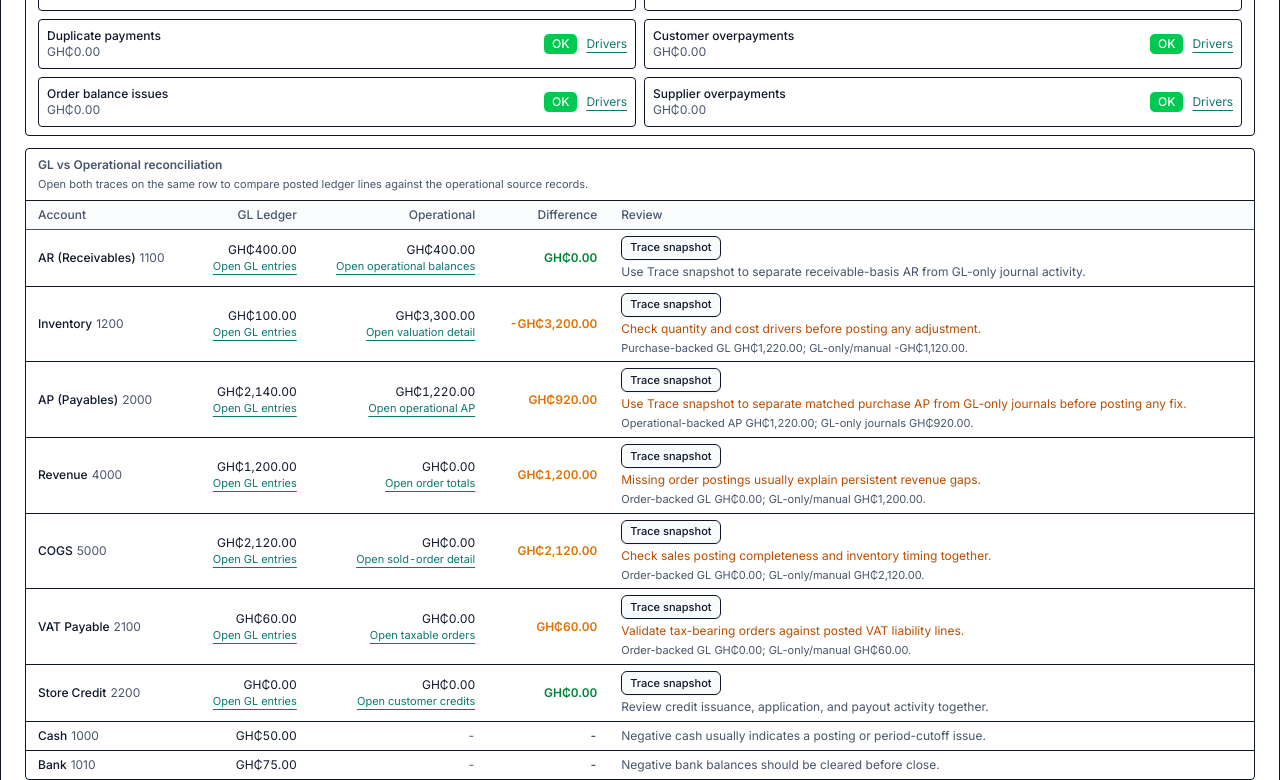
Test: AccountingIntegrityPage › opens a snapshot trace dialog from the reconciliation table
(page scrolled)
Expected: the text "AP (Payables)" is shown, 38,392 -> 118,407
Click the button "Trace snapshot" in the row of "GH₵2,140.00" at x=671, y=380, box 621,368 -> 721,392
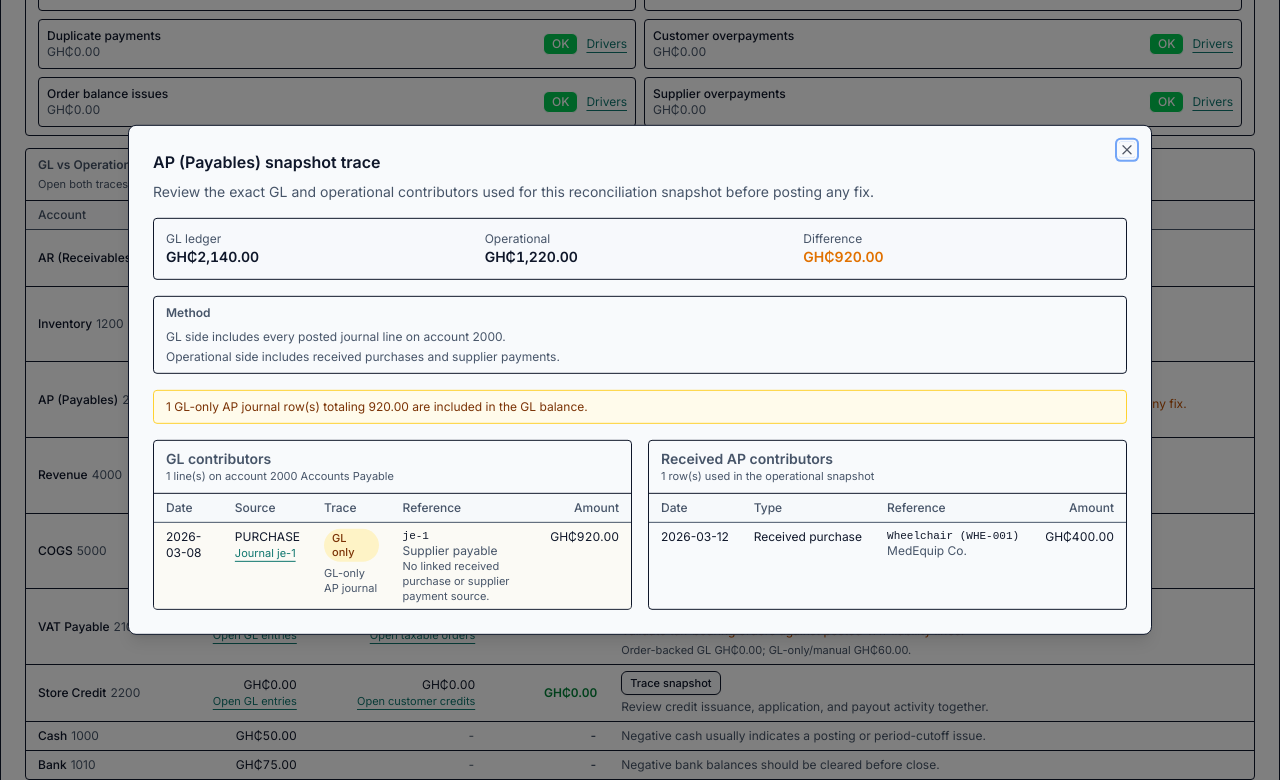
Expected: the heading "AP (Payables) snapshot trace" is shown, 153,152 -> 380,172
Expected: the text "included in the GL balance" is shown, 166,399 -> 588,414
Expected: the text "Received AP contributors" is shown, 661,450 -> 833,467
